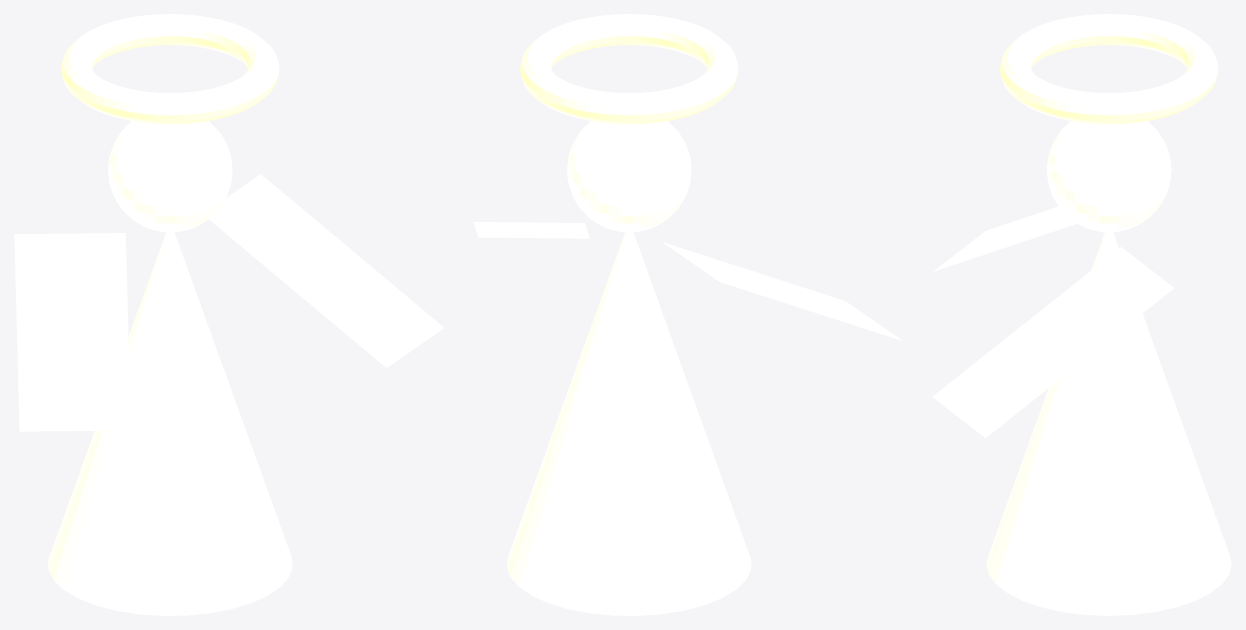
File: seraph.glb
3 renders of one model, left to right at view 1: azimuth 30°, elevation 25°; view 2: azimuth 150°, elevation 25°; view 3: azimuth 270°, elevation 25°, orthographic.
Parts seen in each view (by area): view 1: Cone, Plane, Plane.001, Torus, Sphere; view 2: Cone, Torus, Sphere, Plane, Plane.001; view 3: Cone, Plane.001, Torus, Sphere, Plane.
Part boxes in pixels (x1,y1,x2,y2): Cone: [48, 232, 292, 615]; Plane: [14, 233, 130, 431]; Plane.001: [209, 174, 443, 367]; Torus: [61, 14, 279, 124]; Sphere: [108, 121, 232, 232]; Cone: [507, 232, 751, 615]; Torus: [520, 14, 738, 124]; Sphere: [567, 121, 691, 232]; Plane: [662, 242, 902, 340]; Plane.001: [473, 222, 589, 238]; Cone: [986, 232, 1231, 615]; Plane.001: [932, 247, 1174, 437]; Torus: [1000, 14, 1218, 124]; Sphere: [1046, 121, 1171, 232]; Plane: [933, 168, 1173, 271].
Size of the model in its own units: 2.2 by 2.52 by 1.34.
